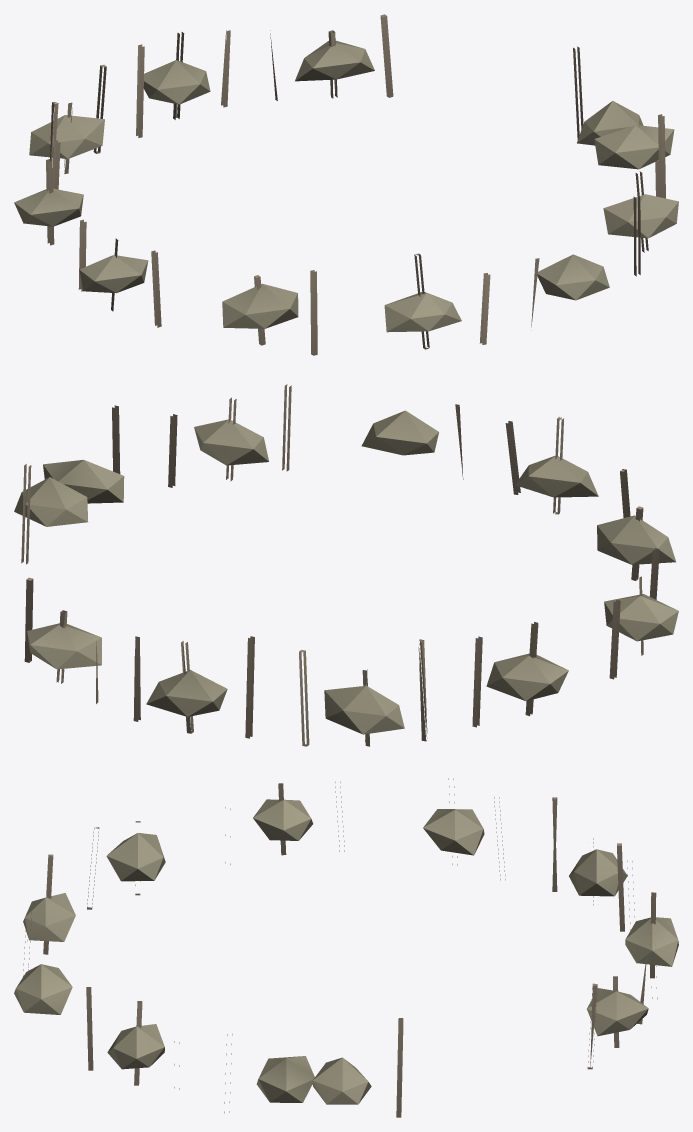
Rendered from mil_kraal.lod.glb.
The picture shows the model from 3 angles, top to bottom: view 1: azimuth 30°, elevation 25°; view 2: azimuth 150°, elevation 25°; view 3: azimuth 270°, elevation 25°; orthographic projection. The views are drawn at different scales.
Visible parts, largest first — view 1: mil_kraal; view 2: mil_kraal; view 3: mil_kraal.
Boxes of the visible parts, bbox=[...] form: mil_kraal: bbox=[14, 14, 678, 355]; mil_kraal: bbox=[14, 384, 678, 746]; mil_kraal: bbox=[14, 778, 678, 1117].
Size of the model in its own units: 11.21 by 1.71 by 10.68.
